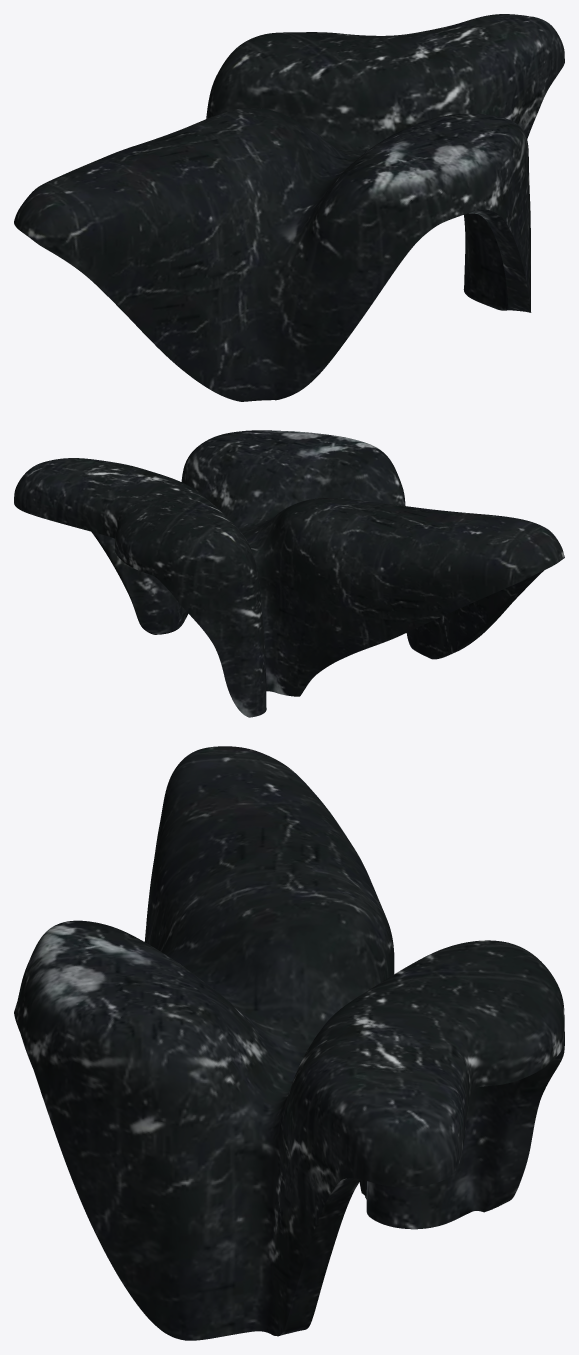
3 renders of one model, top to bottom at view 1: azimuth 30°, elevation 25°; view 2: azimuth 150°, elevation 25°; view 3: azimuth 270°, elevation 25°, orthographic. The views are drawn at different scales.
Visible parts, largest first — view 1: art-stol-chernyy-01; view 2: art-stol-chernyy-01; view 3: art-stol-chernyy-01.
Part boxes in pixels (box(x1,y1,x2,y2)): art-stol-chernyy-01: box(14, 14, 564, 401); art-stol-chernyy-01: box(14, 430, 564, 717); art-stol-chernyy-01: box(14, 746, 564, 1340).
Size of the model in its own units: 1.4 by 0.48 by 0.82.
1 material, 1 textured.
